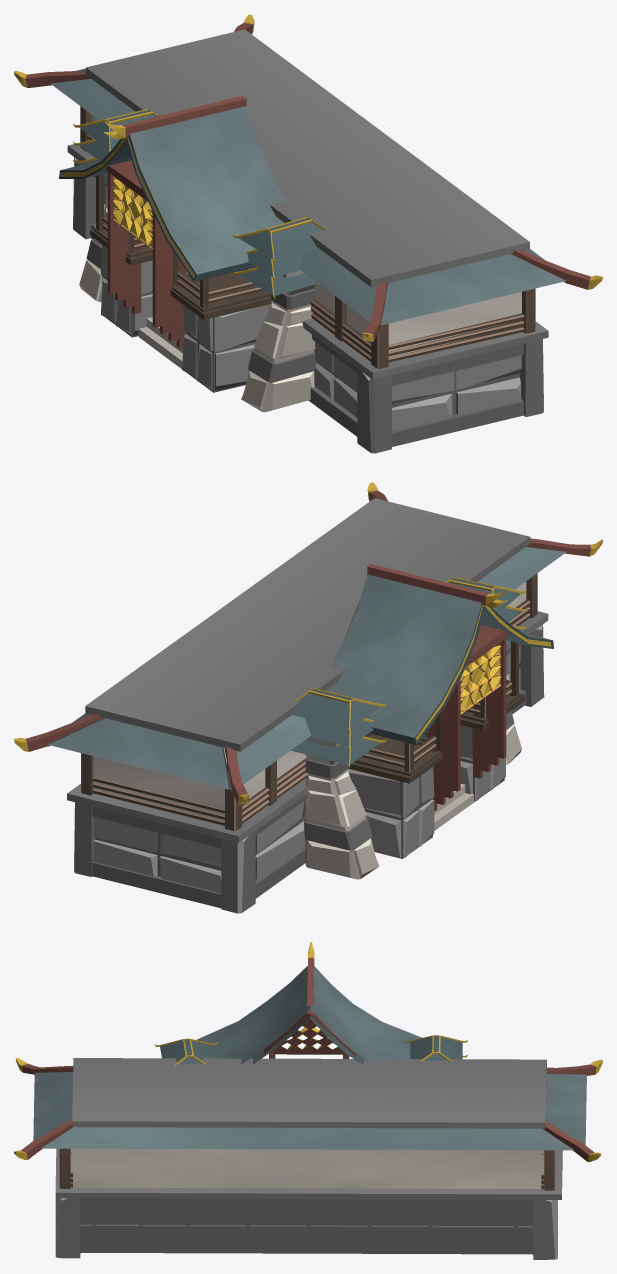
Rendered from lvl_2.fbx.
3 views of the same model, one above another, from view 1: azimuth 30°, elevation 25°; view 2: azimuth 150°, elevation 25°; view 3: azimuth 270°, elevation 25° (orthographic). The views are drawn at different scales.
Parts seen in each view (by area): view 1: lvl_2; view 2: lvl_2; view 3: lvl_2.
Boxes of the visible parts, bbox=[...] form: lvl_2: bbox=[14, 14, 602, 453]; lvl_2: bbox=[14, 482, 602, 913]; lvl_2: bbox=[14, 942, 602, 1259].
Bounding box in the file's own units: 1052 × 771 × 2023.
